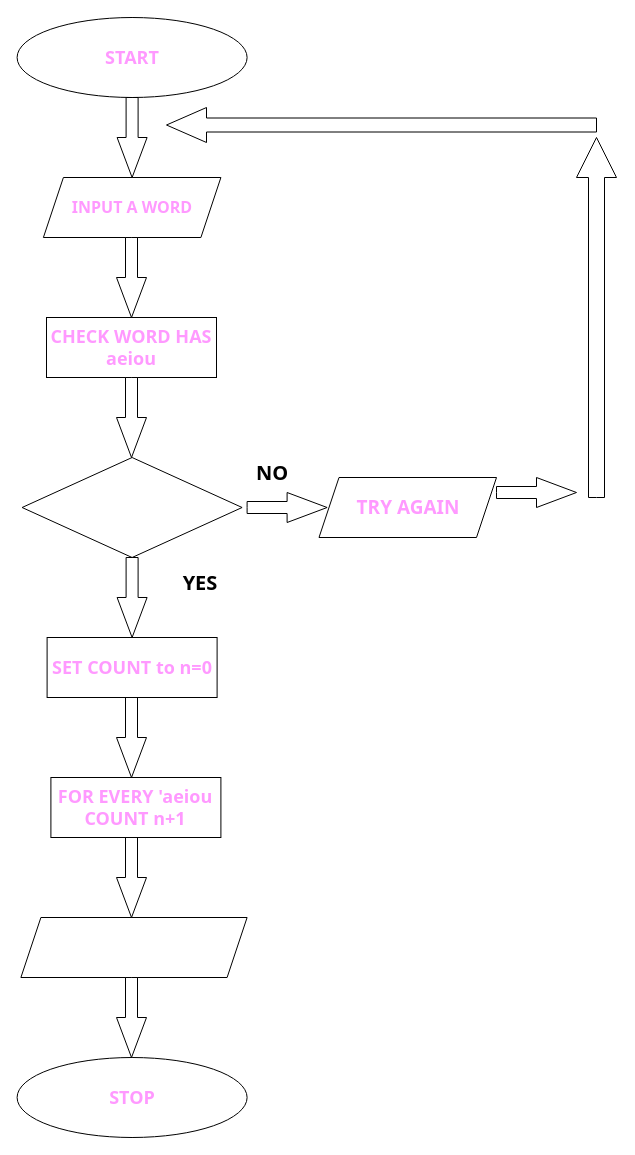
The diagram is 635 pixels wide and 1155 high, and some of its shapes have lost their labels. The centre of each missing label's shape, as x and y in pixels:
"DOES WORD HAVE aeiou INPUT" goes at (131,507).
"OUTPUT WORD HAS n+1 VOWELS" goes at (133,947).
